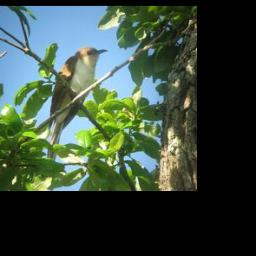Cuckoo: (44, 45, 111, 166)
